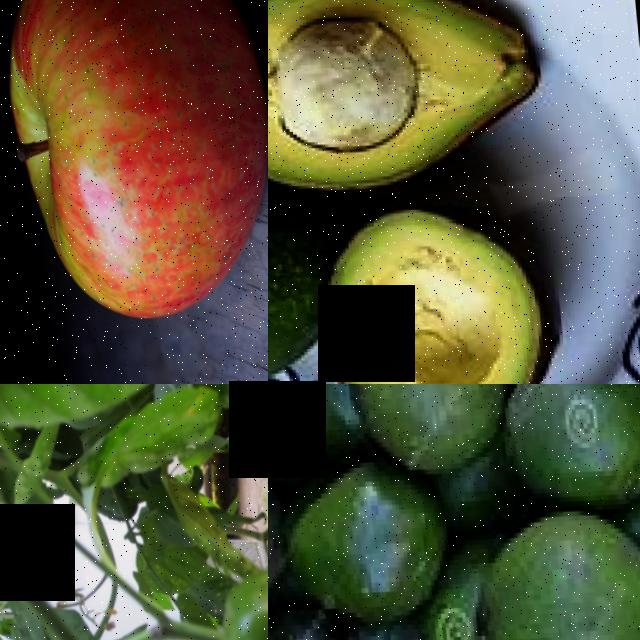apple: (0, 0, 268, 328)
avocado: (268, 0, 566, 205), (295, 199, 566, 384), (268, 463, 453, 640), (474, 504, 640, 640), (268, 91, 336, 384), (501, 384, 640, 525), (333, 384, 498, 497), (268, 459, 296, 613), (268, 602, 367, 640)
